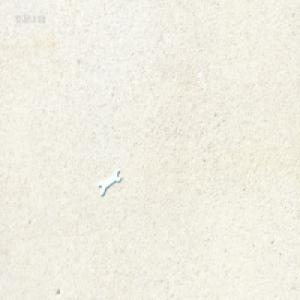Wrench: (98, 167, 121, 195)
